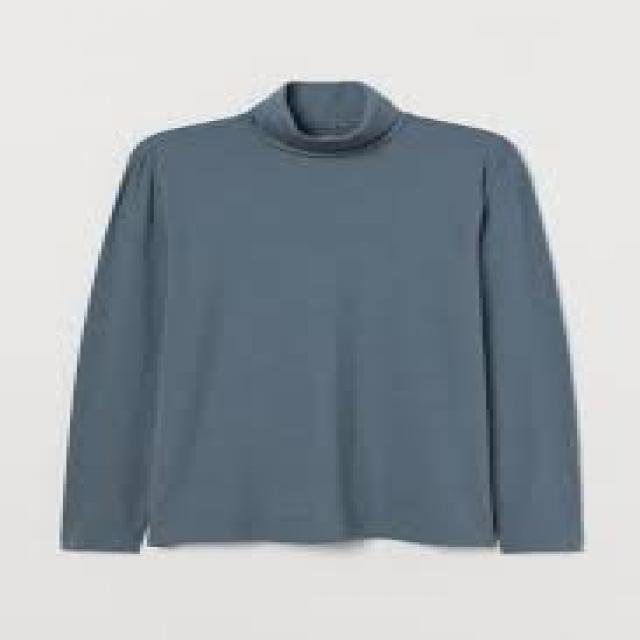plain: (66, 78, 584, 554)
